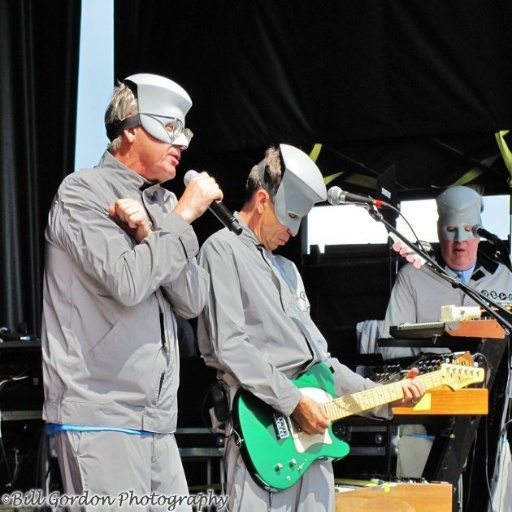hand: (177, 168, 225, 219), (109, 197, 150, 240), (290, 392, 330, 436), (388, 367, 427, 408)
